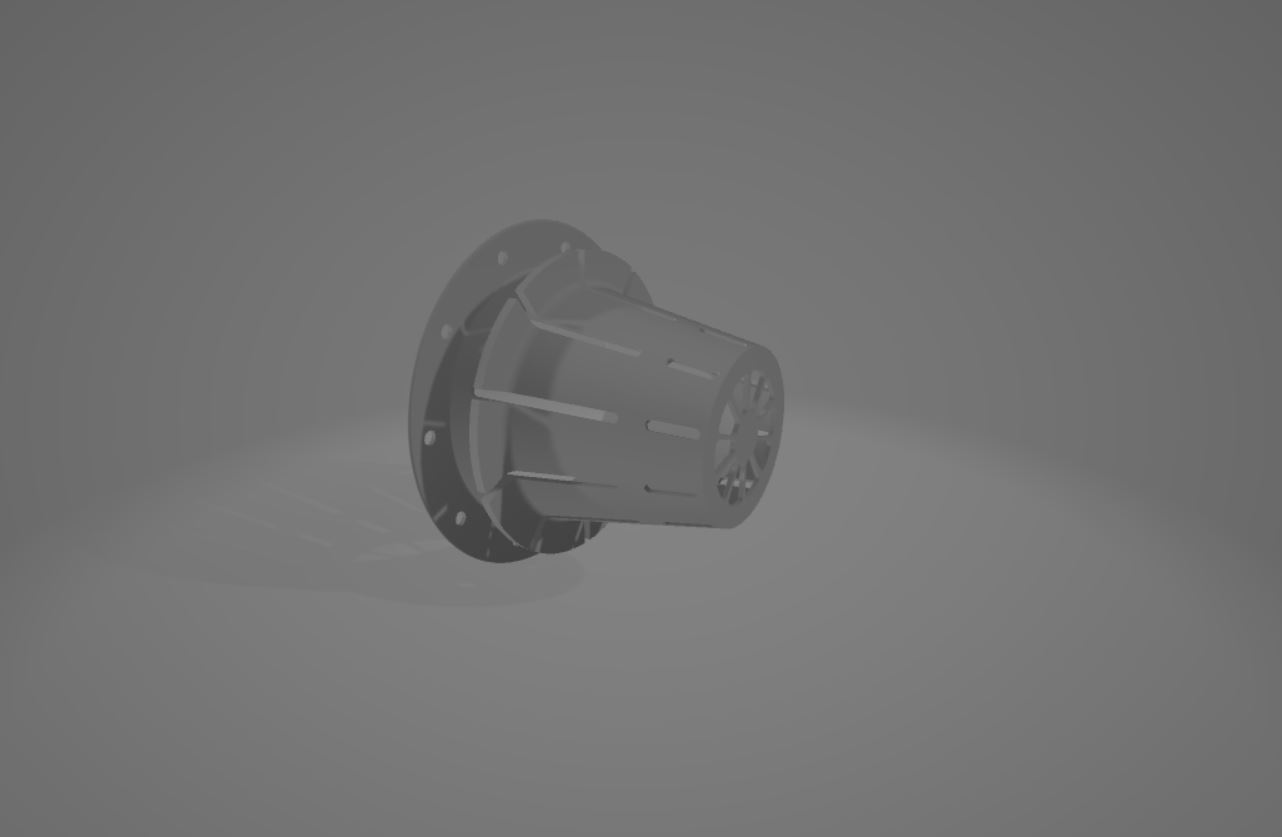basket: (393, 211, 819, 598)
